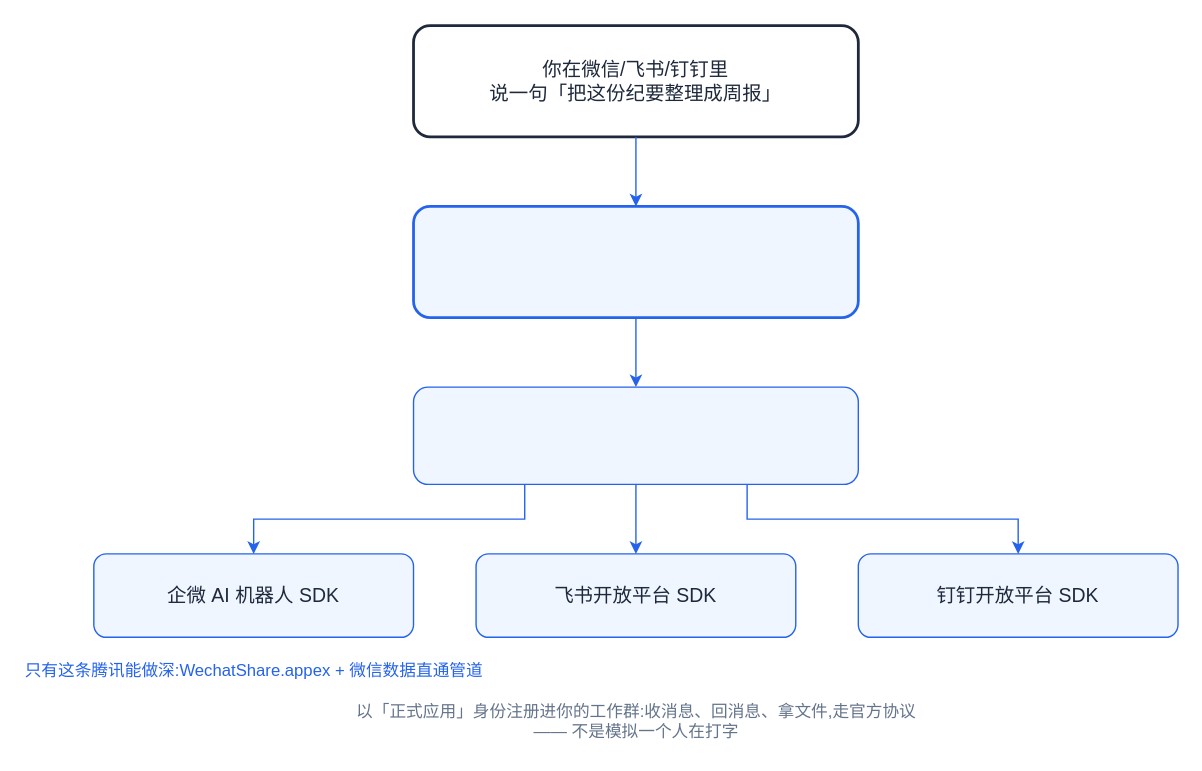
Image size: 1202x771. Some labels were removed from this diagram. The box of each missing label's shape, as (x1, y1, x2, y2) in pixels:
MCP 协议(模型上下文协议) AI 和应用之间的国标插头: (412, 386, 858, 484)
WorkBuddy 执行引擎 (自带工具箱 + 常驻守护进程): (411, 204, 859, 318)
